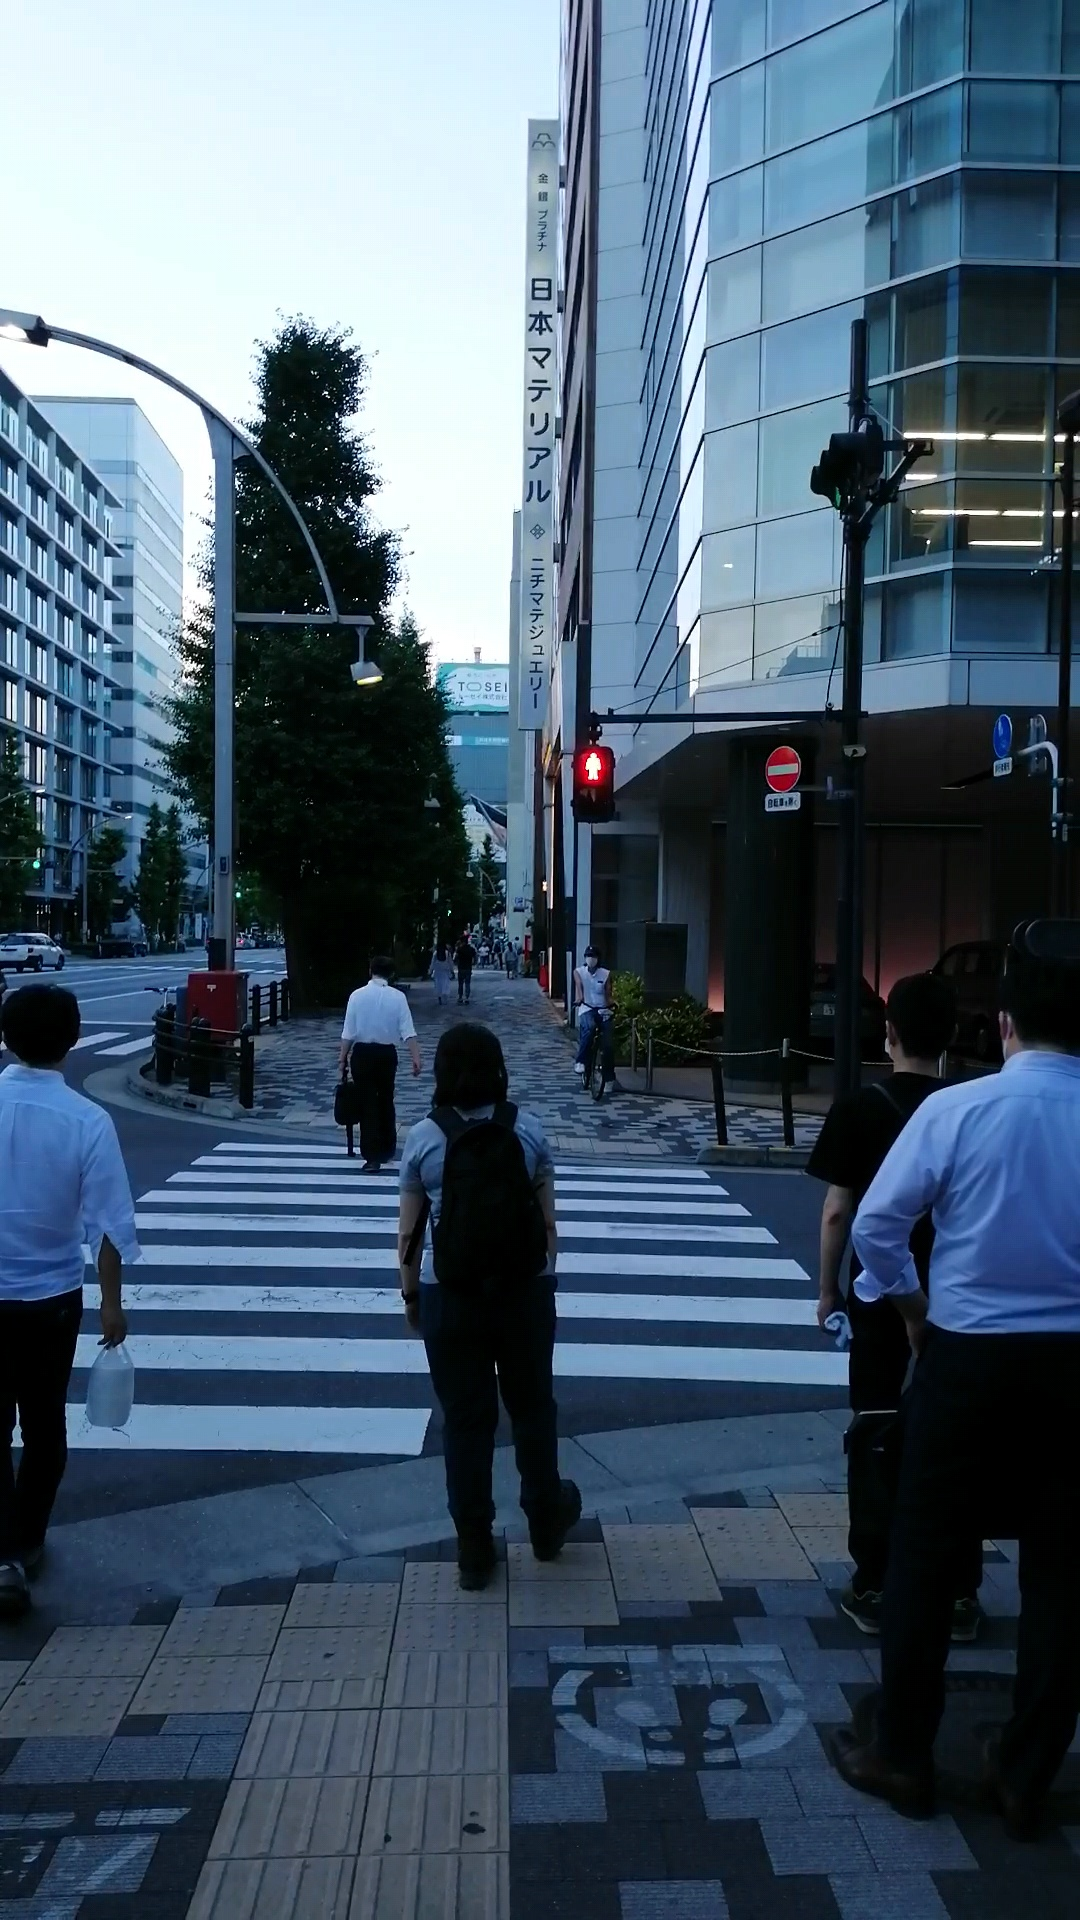red: (572, 745, 616, 824)
